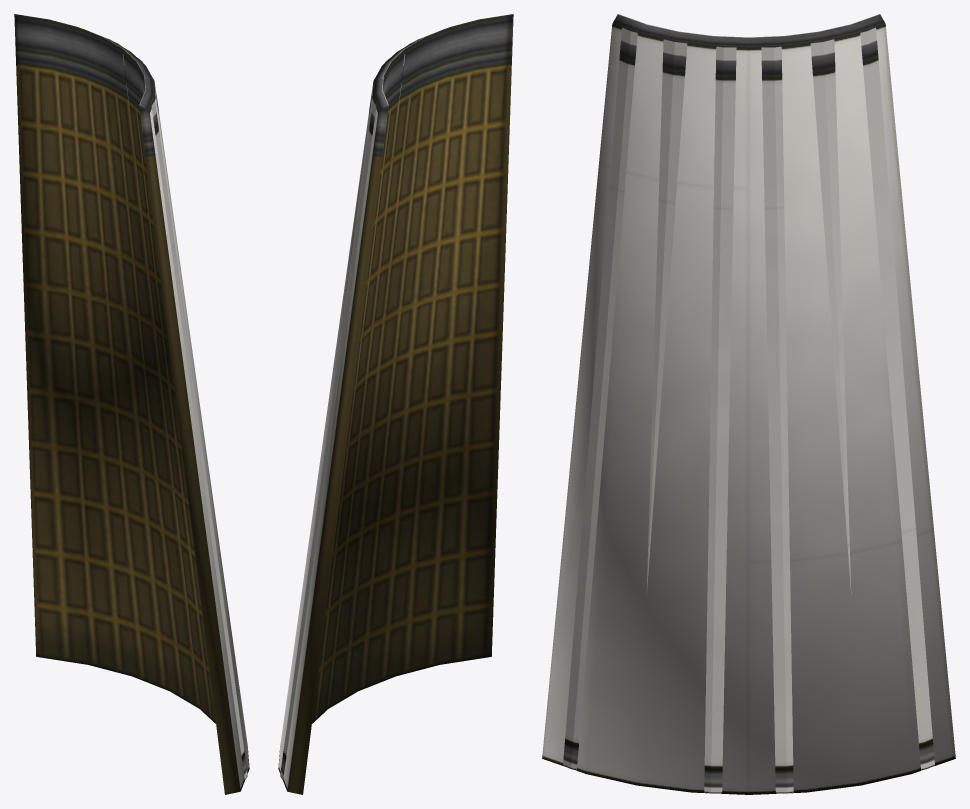
Rendered from Str_Fairing_3m_4x.FBX.
3 views of the same model, side by side, from view 1: azimuth 30°, elevation 25°; view 2: azimuth 150°, elevation 25°; view 3: azimuth 270°, elevation 25° (orthographic). The views are drawn at different scales.
Parts seen in each view (by area): view 1: Fairings_Wall_2m, Fairings_Wall_2m_Col.001, Fairings_Wall_2m_Col.002; view 2: Fairings_Wall_2m, Fairings_Wall_2m_Col, Fairings_Wall_2m_Col.006; view 3: Fairings_Wall_2m, Fairings_Wall_2m_Col.004, Fairings_Wall_2m_Col.005, Fairings_Wall_2m_Col.003, Fairings_Wall_2m_Col.006, Fairings_Wall_2m_Col.002, Fairings_Wall_2m_Col.001, Fairings_Wall_2m_Col.
Boxes of the visible parts, x1,y1,x2,y2 form: Fairings_Wall_2m: [14, 14, 249, 794]; Fairings_Wall_2m_Col.001: [151, 101, 247, 780]; Fairings_Wall_2m_Col.002: [154, 82, 247, 774]; Fairings_Wall_2m: [278, 14, 513, 794]; Fairings_Wall_2m_Col: [280, 101, 376, 780]; Fairings_Wall_2m_Col.006: [280, 82, 373, 774]; Fairings_Wall_2m: [542, 14, 955, 794]; Fairings_Wall_2m_Col.004: [711, 47, 786, 793]; Fairings_Wall_2m_Col.005: [774, 42, 851, 793]; Fairings_Wall_2m_Col.003: [646, 42, 723, 793]; Fairings_Wall_2m_Col.006: [823, 31, 926, 770]; Fairings_Wall_2m_Col.002: [571, 31, 674, 770]; Fairings_Wall_2m_Col.001: [563, 27, 630, 768]; Fairings_Wall_2m_Col: [867, 27, 934, 768].
Bounding box in the file's own units: 1.06 × 5.07 × 2.66.
